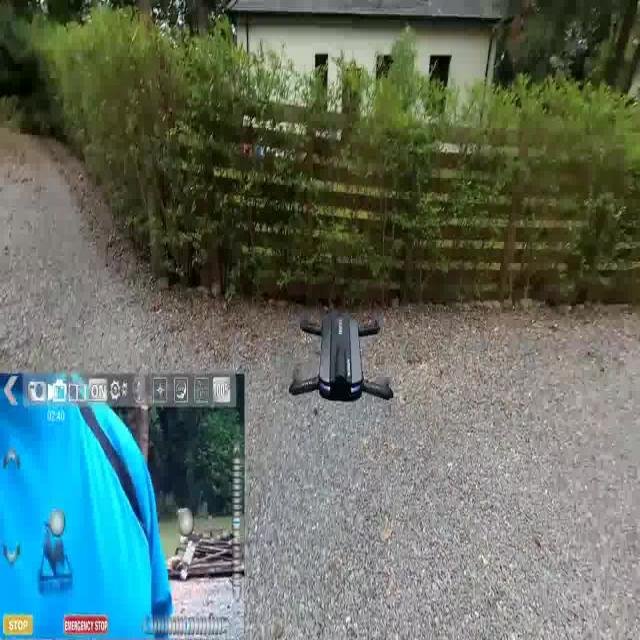drones: (282, 298, 406, 426)
